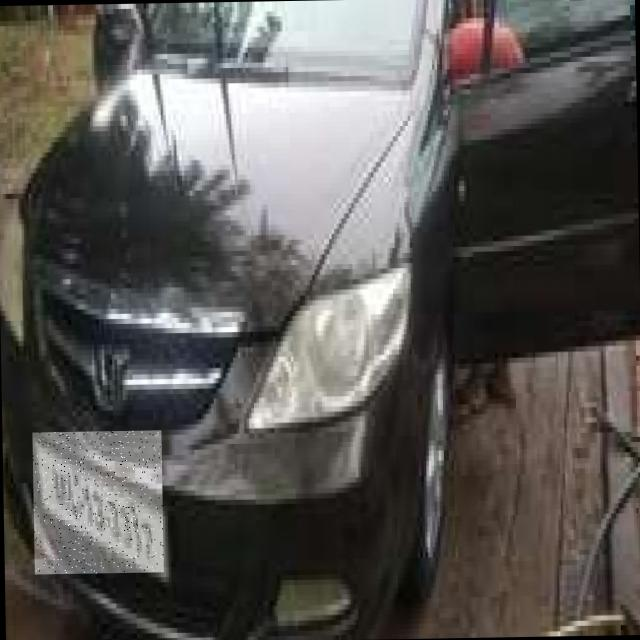Plate: (33, 431, 164, 575)
